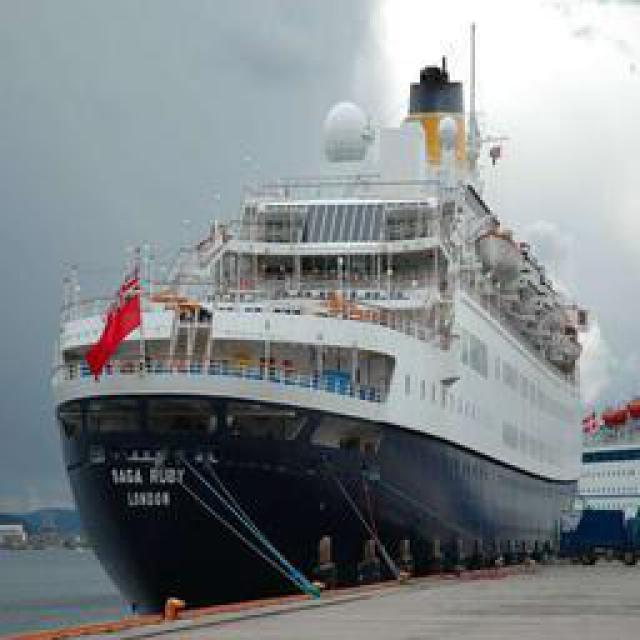Ship: (57, 58, 607, 596)
